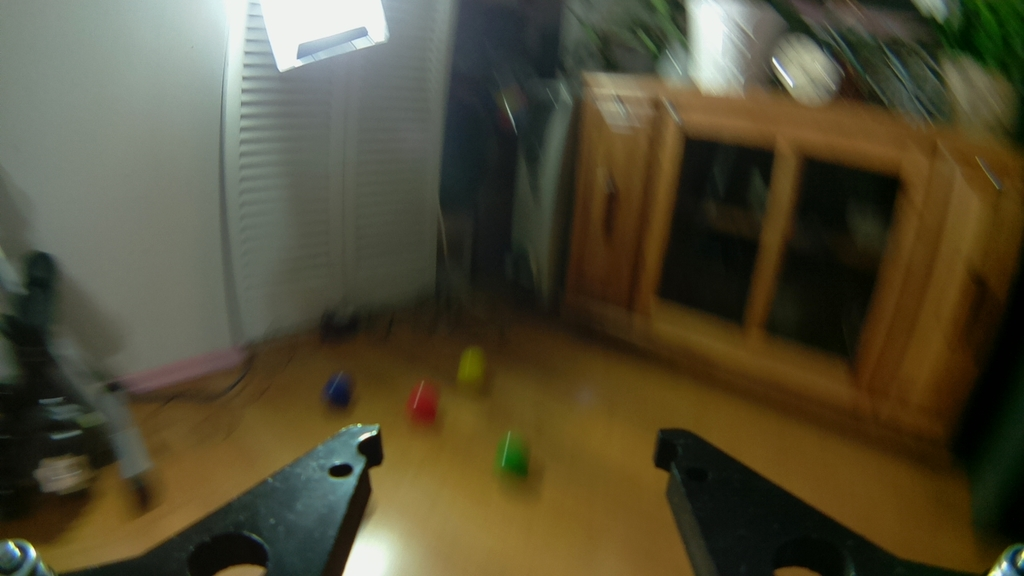ball: (321, 377, 352, 409)
